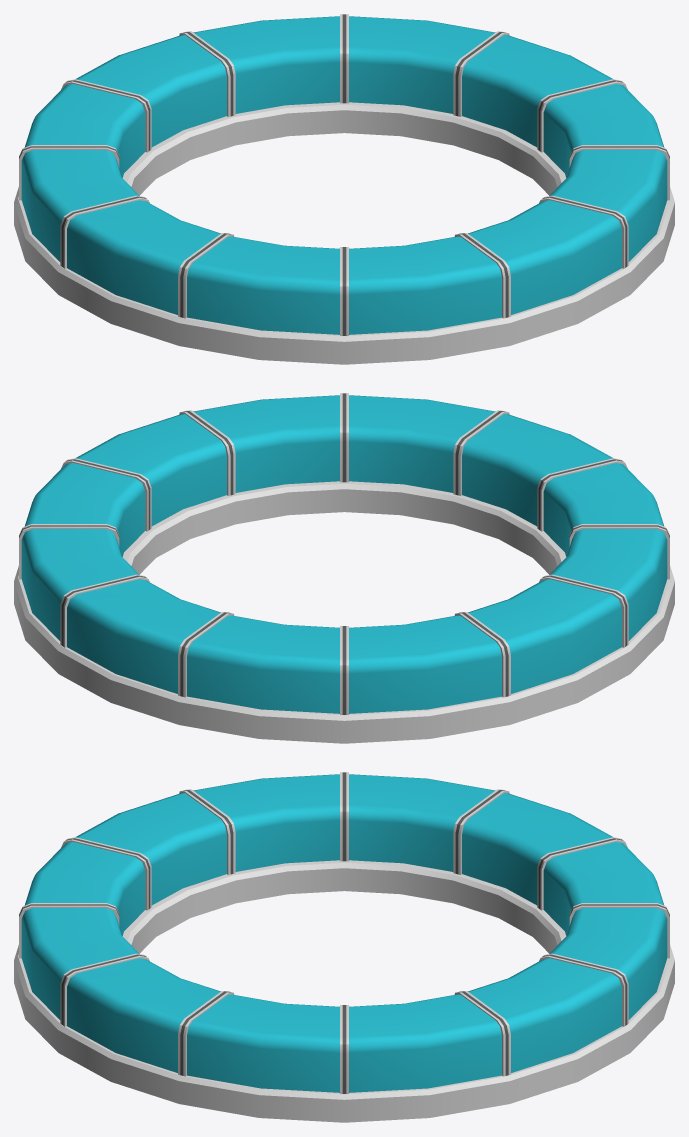
File: space_station_010.fbx
3 renders of one model, top to bottom at view 1: azimuth 30°, elevation 25°; view 2: azimuth 150°, elevation 25°; view 3: azimuth 270°, elevation 25°, orthographic.
Visible parts, largest first — view 1: space_station_010; view 2: space_station_010; view 3: space_station_010.
Part boxes in pixels (bbox=[...]): space_station_010: bbox=[14, 14, 674, 364]; space_station_010: bbox=[14, 393, 674, 743]; space_station_010: bbox=[14, 772, 674, 1122].
Bounding box in the file's own units: 6152 × 6152 × 803.
